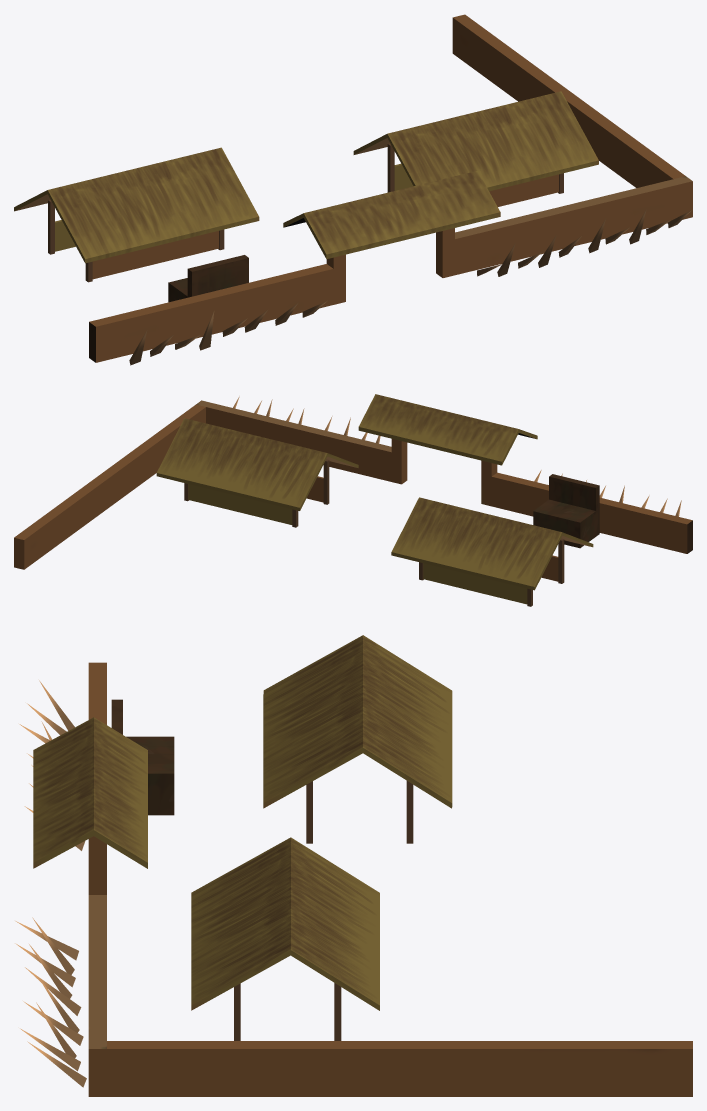
Rendered from base_nva.fbx.
The picture shows the model from 3 angles, top to bottom: view 1: azimuth 30°, elevation 25°; view 2: azimuth 150°, elevation 25°; view 3: azimuth 270°, elevation 25°; orthographic projection. The views are drawn at different scales.
Visible parts, largest first — view 1: NVA_base; view 2: NVA_base; view 3: NVA_base.
Part boxes in pixels (x1=…): NVA_base: x1=14, y1=14, x2=692, y2=365; NVA_base: x1=14, y1=394, x2=692, y2=606; NVA_base: x1=15, y1=635, x2=692, y2=1096.
Size of the model in its own units: 1566 by 257 by 1163.
